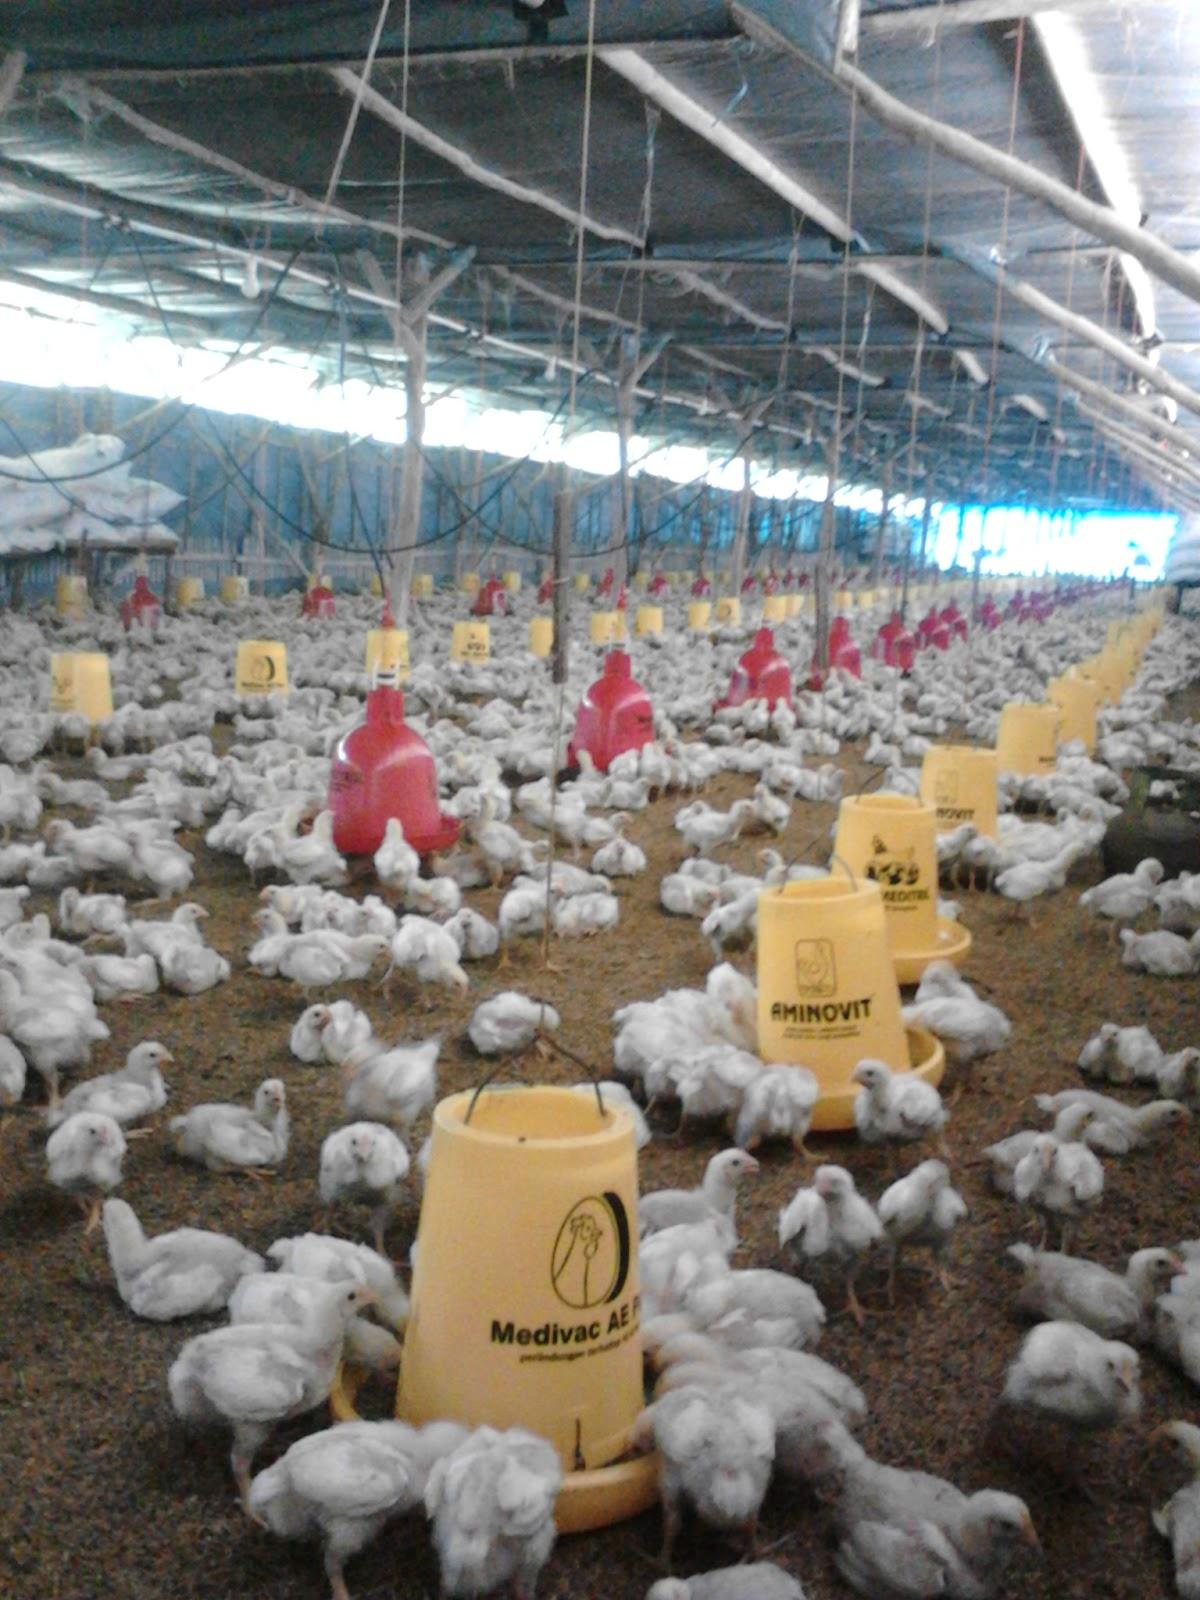chicken: (809, 1424, 1041, 1600), (169, 1280, 377, 1431), (247, 1430, 425, 1555), (425, 1430, 563, 1584), (633, 1359, 764, 1522), (83, 1193, 247, 1290), (1007, 1230, 1176, 1323), (776, 1170, 875, 1305), (1010, 1320, 1138, 1421), (1040, 1083, 1190, 1163), (170, 1077, 294, 1168), (637, 1146, 764, 1233), (989, 1134, 1111, 1220), (310, 1124, 413, 1212), (884, 1157, 967, 1255), (847, 1060, 947, 1141), (71, 1037, 180, 1111), (352, 1043, 446, 1120), (900, 993, 1010, 1058), (1080, 1023, 1195, 1082), (45, 1111, 134, 1187), (393, 917, 465, 997), (291, 993, 383, 1054), (1085, 860, 1167, 929), (474, 990, 563, 1052), (750, 1067, 817, 1135)
